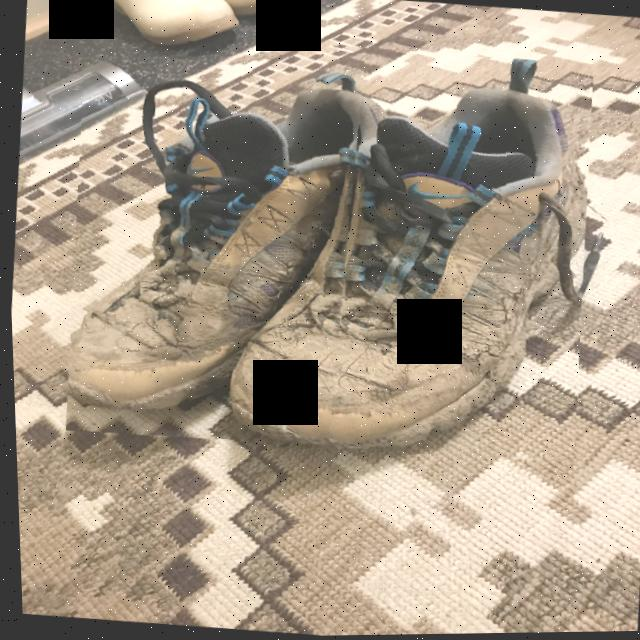shoe: (223, 37, 604, 474), (50, 30, 376, 455)
